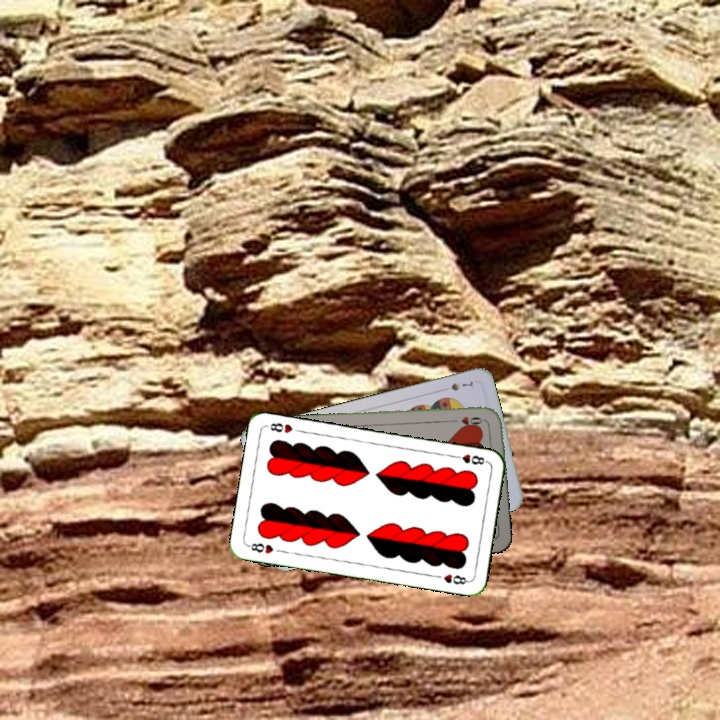H8: (449, 450, 490, 467), (244, 539, 276, 556)
HO: (447, 412, 488, 428)
S7: (447, 377, 476, 393)
